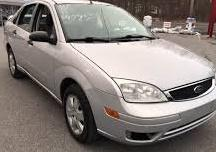Cars: (6, 2, 216, 145)
